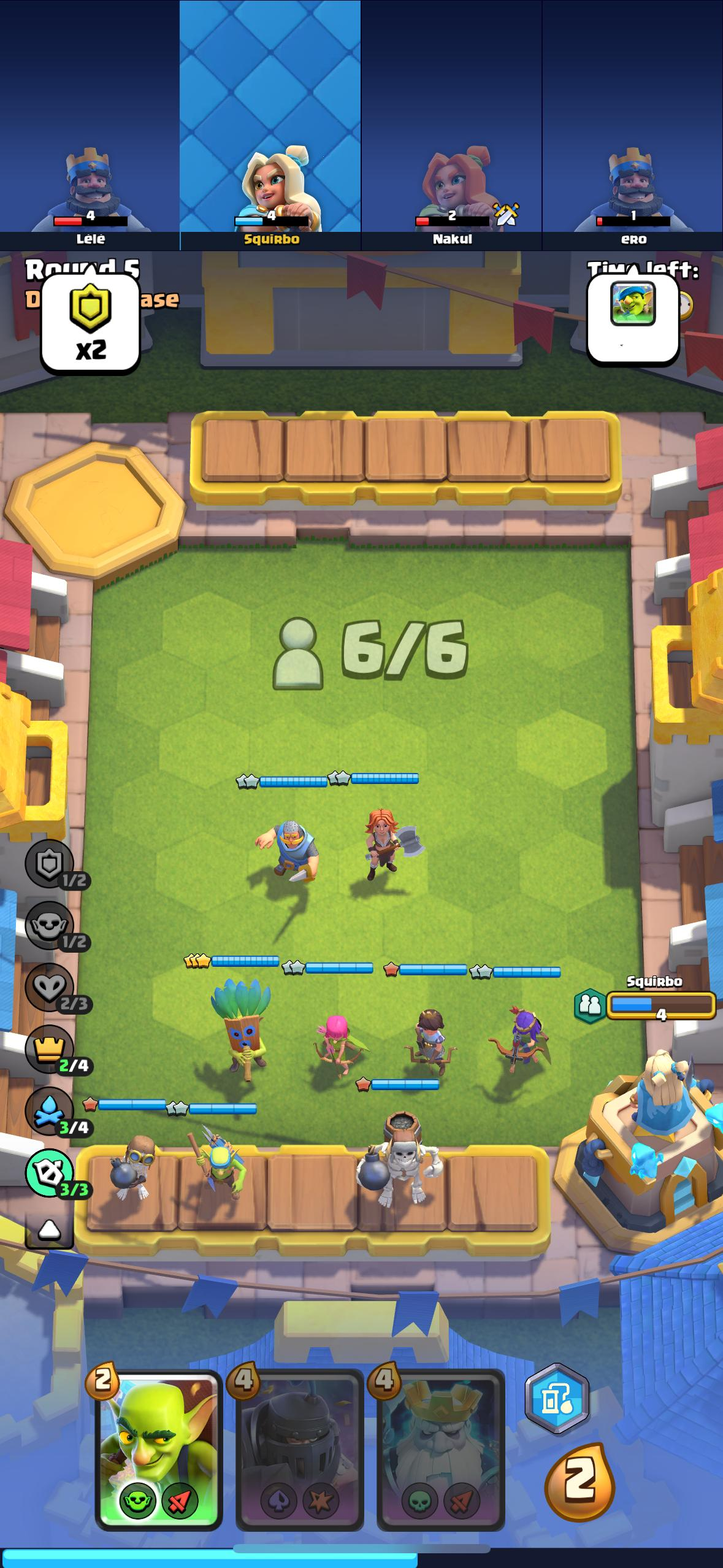archer: (311, 1013, 366, 1073)
bomber: (107, 1131, 160, 1202)
dart: (205, 973, 275, 1073)
giant: (355, 1105, 446, 1206)
hand-ghost: (378, 1371, 503, 1530)
hand-goblin: (100, 1371, 217, 1526)
hand-mega: (235, 1373, 365, 1526)
knight: (256, 816, 320, 884)
princess: (402, 1005, 460, 1077)
queen: (488, 995, 553, 1075)
spear: (182, 1122, 249, 1199)
valkyrie: (357, 803, 420, 877)
